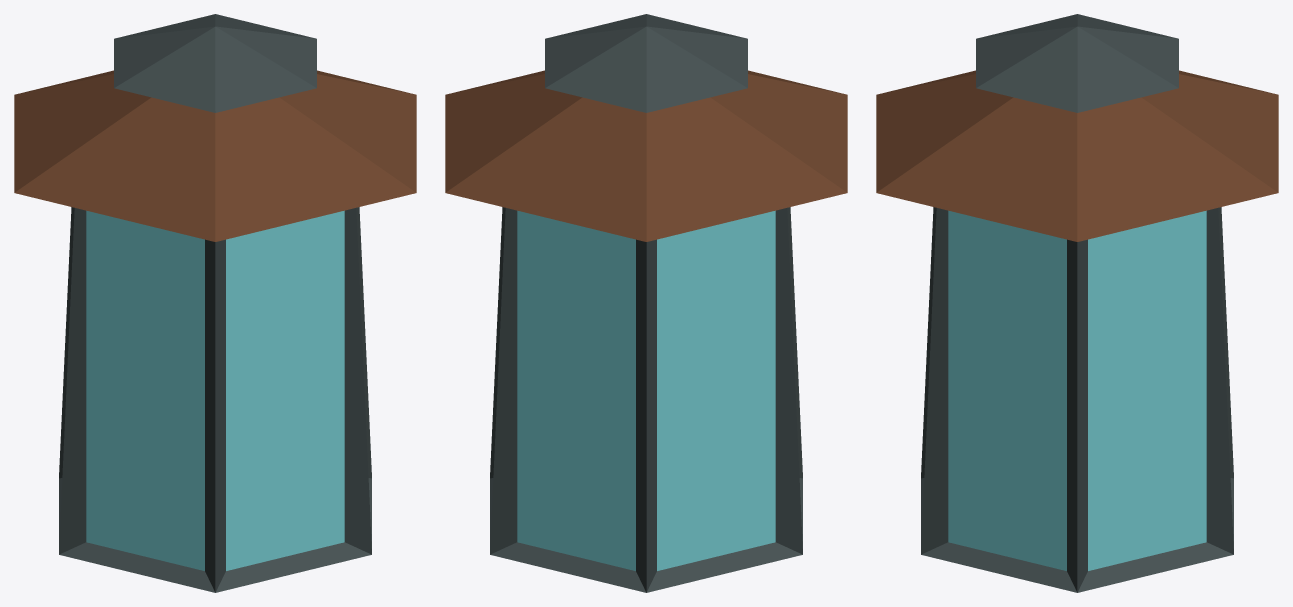
File: Lamp_2_Blue.fbx
3 views of the same model, side by side, from view 1: azimuth 30°, elevation 25°; view 2: azimuth 150°, elevation 25°; view 3: azimuth 270°, elevation 25° (orthographic).
Parts seen in each view (by area): view 1: Lamp_2_Blue; view 2: Lamp_2_Blue; view 3: Lamp_2_Blue.
Boxes of the visible parts, left/top/right/bottom form: Lamp_2_Blue: left=14, top=14, right=416, bottom=592; Lamp_2_Blue: left=445, top=14, right=847, bottom=592; Lamp_2_Blue: left=876, top=14, right=1278, bottom=592.
Bounding box in the file's own units: 57.59 × 66.99 × 49.88.
